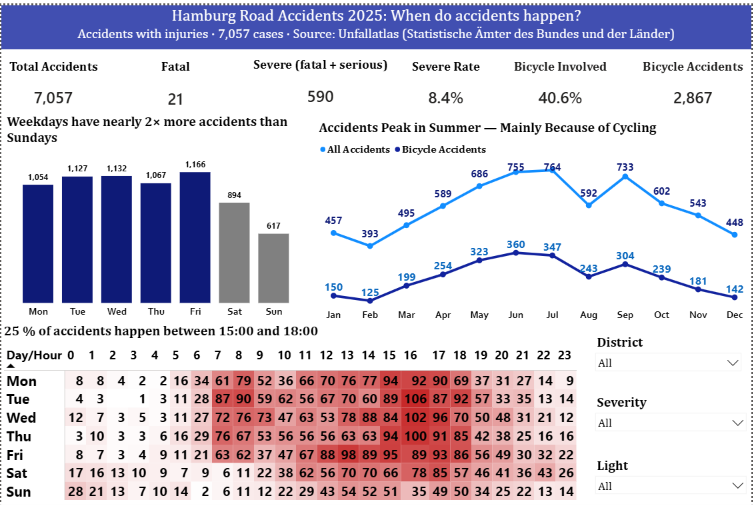

What the dashboard file says about the page in this screenshot:
{"tool":"powerbi","page":{"name":"When","canvas":[1500,1000],"ordinal":0},"visuals":[{"type":"cardVisual","title":"Total Accidents","fields":{"Data":["hamburg_accidents_2025_clean.total_accidents"]},"box":[6,106,196,110],"z":0},{"type":"cardVisual","title":"Fatal","fields":{"Data":["hamburg_accidents_2025_clean.Fatal"]},"box":[251.1,106,192.6,115.3],"z":1000},{"type":"cardVisual","title":"Severe (fatal + serious)","fields":{"Data":["hamburg_accidents_2025_clean.severe"]},"box":[493.2,102.3,288.6,113.6],"z":2000},{"type":"cardVisual","title":"Bicycle Accidents","fields":{"Data":["hamburg_accidents_2025_clean.bicycle_accidents"]},"box":[1276,106,214,110],"z":3000},{"type":"cardVisual","title":"Severe Rate","fields":{"Data":["hamburg_accidents_2025_clean.% Severe"]},"box":[815.9,106,146,110],"z":4000},{"type":"cardVisual","title":"Bicycle Involved","fields":{"Data":["hamburg_accidents_2025_clean.% bicycle_accident"]},"box":[1010.9,106,216,110],"z":5000},{"type":"lineChart","title":"Accidents Peak in Summer — Mainly Because of Cycling","fields":{"Category":["hamburg_accidents_2025_clean.month"],"Y":["hamburg_accidents_2025_clean.Total Accidents","hamburg_accidents_2025_clean.bicycle_accidents"]},"box":[629.5,227.3,870.5,406.8],"z":6000},{"type":"textbox","title":"Hamburg Road Accidents 2025: When do accidents happen?","box":[0,0,1500,87.7],"z":7000},{"type":"clusteredColumnChart","title":"Weekdays have nearly 2× more accidents than Sundays","fields":{"Y":["hamburg_accidents_2025_clean.Total Accidents"],"Category":["hamburg_accidents_2025_clean.weekday"]},"box":[6.8,215.9,606.8,418.2],"z":8000},{"type":"pivotTable","title":"25 % of accidents happen between 15:00 and 18:00","fields":{"Values":["hamburg_accidents_2025_clean.Total Accidents"],"Columns":["hamburg_accidents_2025_clean.hour"],"Rows":["hamburg_accidents_2025_clean.weekday"]},"box":[0,634,1164,366],"z":9000},{"type":"slicer","fields":{"Values":["hamburg_accidents_2025_clean.district"]},"box":[1178,652,312,102],"z":10000},{"type":"slicer","fields":{"Values":["hamburg_accidents_2025_clean.severity"]},"box":[1178,771,322,110],"z":11000},{"type":"slicer","fields":{"Values":["hamburg_accidents_2025_clean.light"]},"box":[1178,898,322,102],"z":12000}]}

Visuals, with their boxes in screenshot pixels (x1, y1, x2, y2), scaled from the page's 1500x1000 canvas onto the 753x505 screenshot:
"Total Accidents" cardVisual: {"left": 3, "top": 54, "right": 101, "bottom": 109}
"Fatal" cardVisual: {"left": 126, "top": 54, "right": 223, "bottom": 112}
"Severe (fatal + serious)" cardVisual: {"left": 248, "top": 52, "right": 392, "bottom": 109}
"Bicycle Accidents" cardVisual: {"left": 641, "top": 54, "right": 748, "bottom": 109}
"Severe Rate" cardVisual: {"left": 410, "top": 54, "right": 483, "bottom": 109}
"Bicycle Involved" cardVisual: {"left": 507, "top": 54, "right": 616, "bottom": 109}
"Accidents Peak in Summer — Mainly Because of Cycling" lineChart: {"left": 316, "top": 115, "right": 752, "bottom": 320}
"Hamburg Road Accidents 2025: When do accidents happen?" textbox: {"left": 0, "top": 0, "right": 752, "bottom": 44}
"Weekdays have nearly 2× more accidents than Sundays" clusteredColumnChart: {"left": 3, "top": 109, "right": 308, "bottom": 320}
"25 % of accidents happen between 15:00 and 18:00" pivotTable: {"left": 0, "top": 320, "right": 584, "bottom": 504}
slicer - hamburg_accidents_2025_clean.district: {"left": 591, "top": 329, "right": 748, "bottom": 381}
slicer - hamburg_accidents_2025_clean.severity: {"left": 591, "top": 389, "right": 752, "bottom": 445}
slicer - hamburg_accidents_2025_clean.light: {"left": 591, "top": 453, "right": 752, "bottom": 504}
